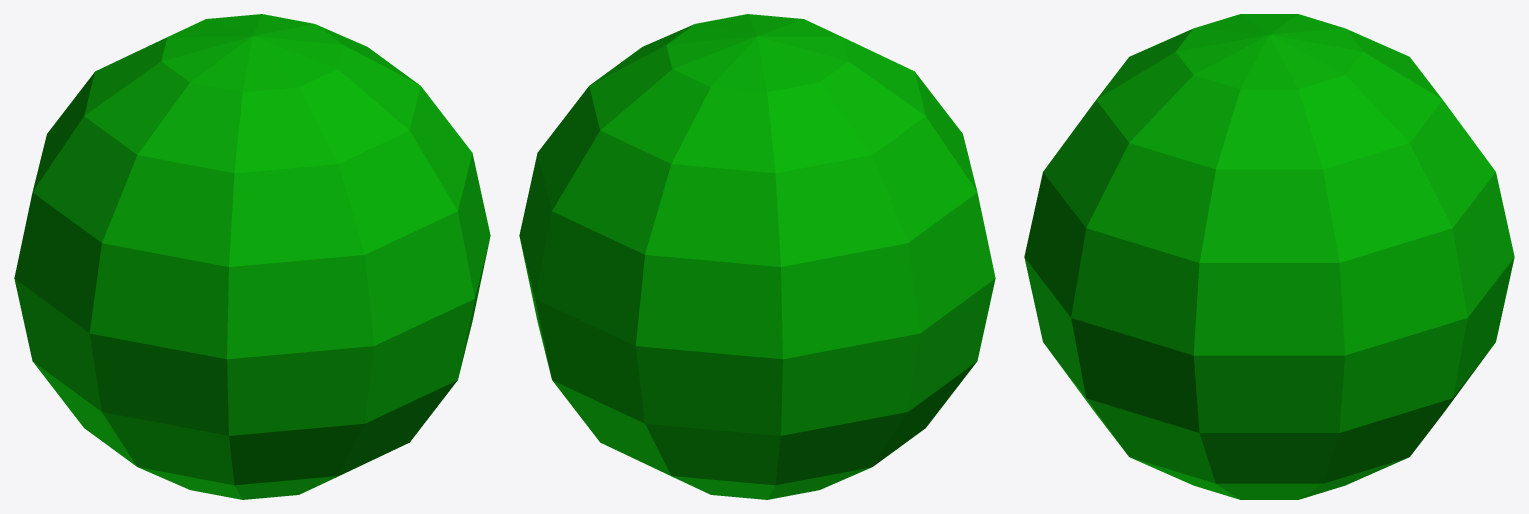
Rendered from Tree_Leaf.fbx.
3 renders of one model, left to right at view 1: azimuth 30°, elevation 25°; view 2: azimuth 150°, elevation 25°; view 3: azimuth 270°, elevation 25°, orthographic.
Parts seen in each view (by area): view 1: Sphere; view 2: Sphere; view 3: Sphere.
Part boxes in pixels (x1,y1,x2,y2): Sphere: (14,14,490,499); Sphere: (519,14,995,499); Sphere: (1024,14,1514,499).
Bounding box in the file's own units: 190 × 200 × 200.
